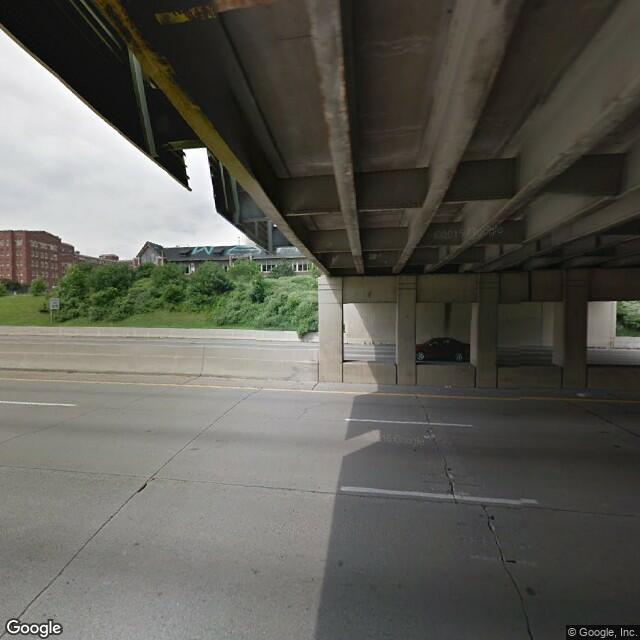litter: (573, 391, 586, 398), (442, 382, 453, 389)
